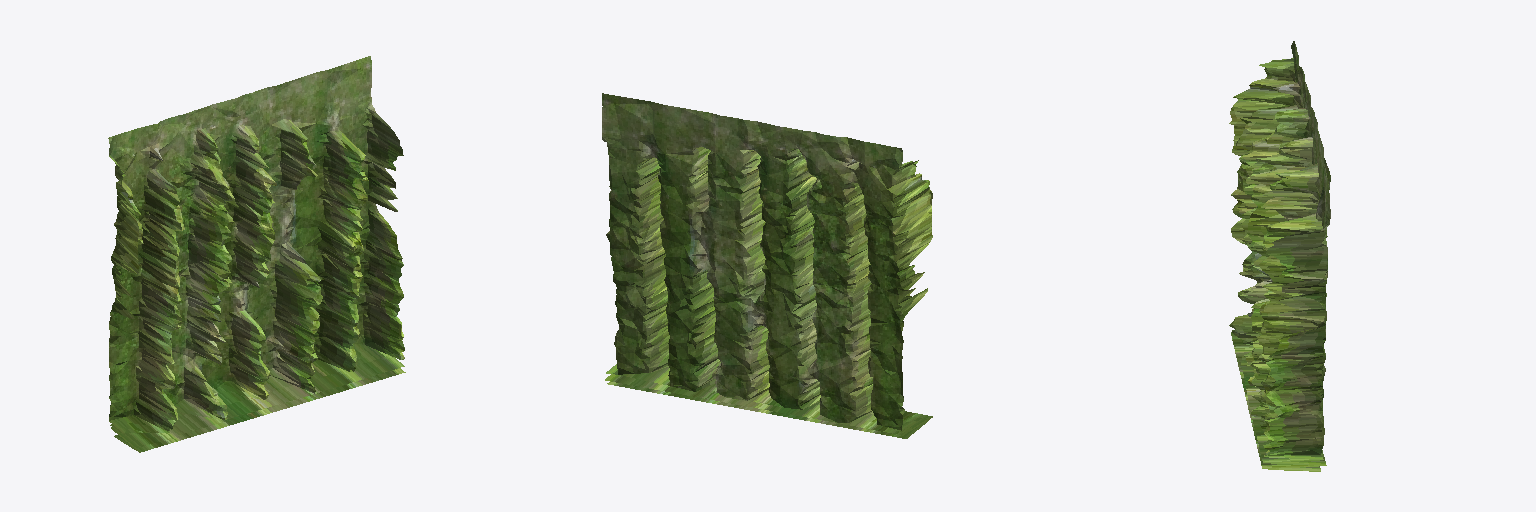
3 views of the same model, side by side, from view 1: azimuth 30°, elevation 25°; view 2: azimuth 150°, elevation 25°; view 3: azimuth 270°, elevation 25° (orthographic).
Parts seen in each view (by area): view 1: grp1; view 2: grp1; view 3: grp1.
Part boxes in pixels (x1,y1,x2,y2): grp1: (108, 56, 405, 452); grp1: (602, 93, 932, 438); grp1: (1229, 41, 1330, 471).
Bounding box in the file's own units: 10 × 10 × 3.15.
Materials: 1 (1 with a texture image).